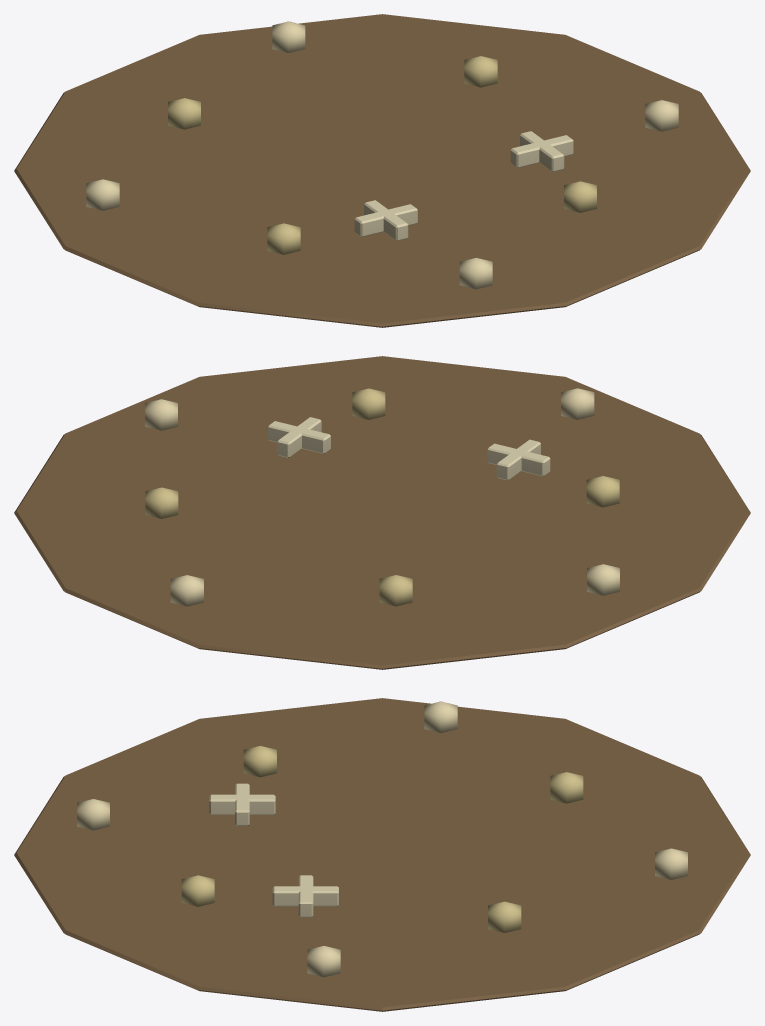
File: fertilized_mark_low.glb
3 renders of one model, top to bottom at view 1: azimuth 30°, elevation 25°; view 2: azimuth 150°, elevation 25°; view 3: azimuth 270°, elevation 25°, orthographic.
Bounding box in the file's own units: 0.3 × 0.015 × 0.3.
